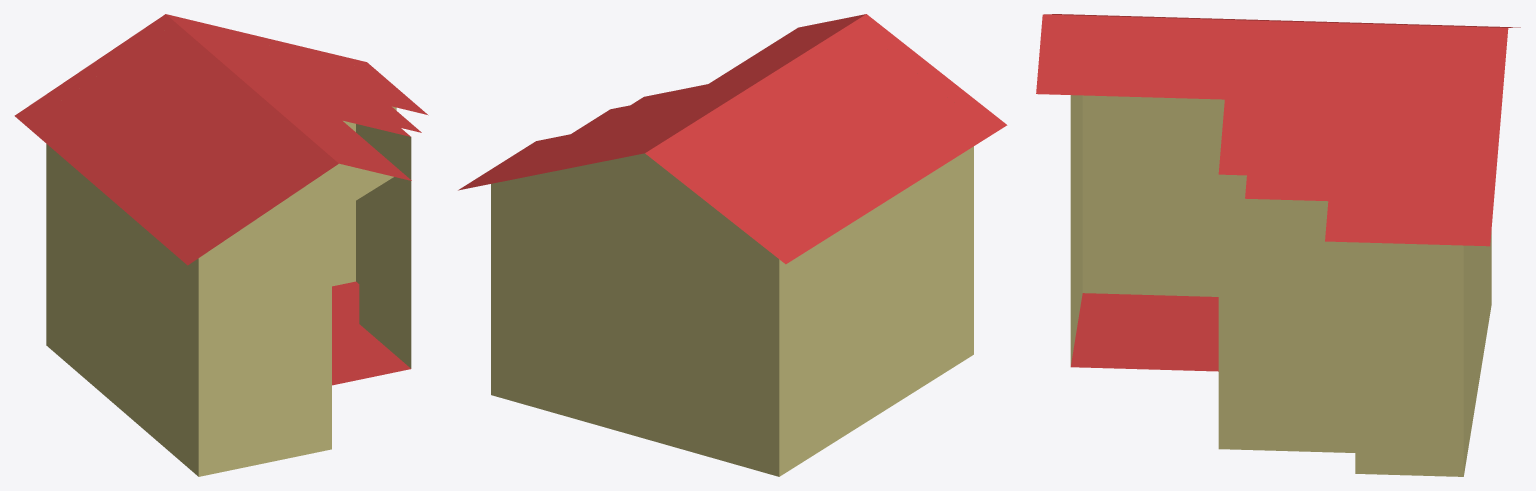
3 views of the same model, side by side, from view 1: azimuth 30°, elevation 25°; view 2: azimuth 150°, elevation 25°; view 3: azimuth 270°, elevation 25° (orthographic). The views are drawn at different scales.
Bounding box in the file's own units: 13.09 × 12.83 × 10.19.
